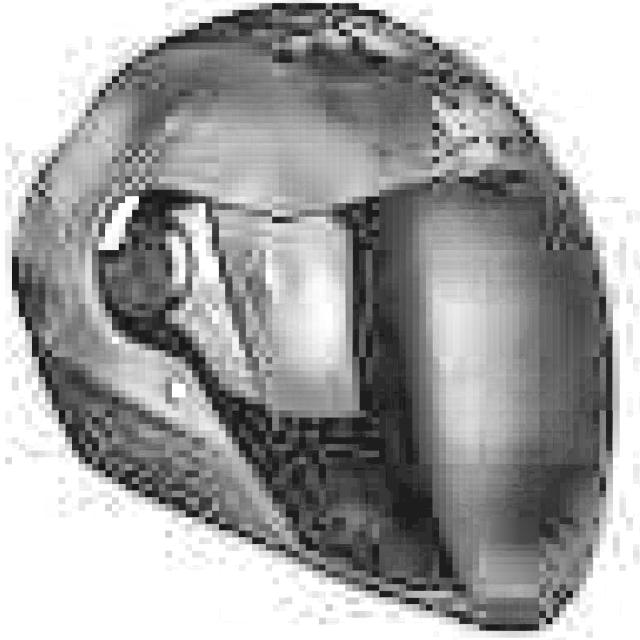Helmet: (8, 0, 618, 640)
